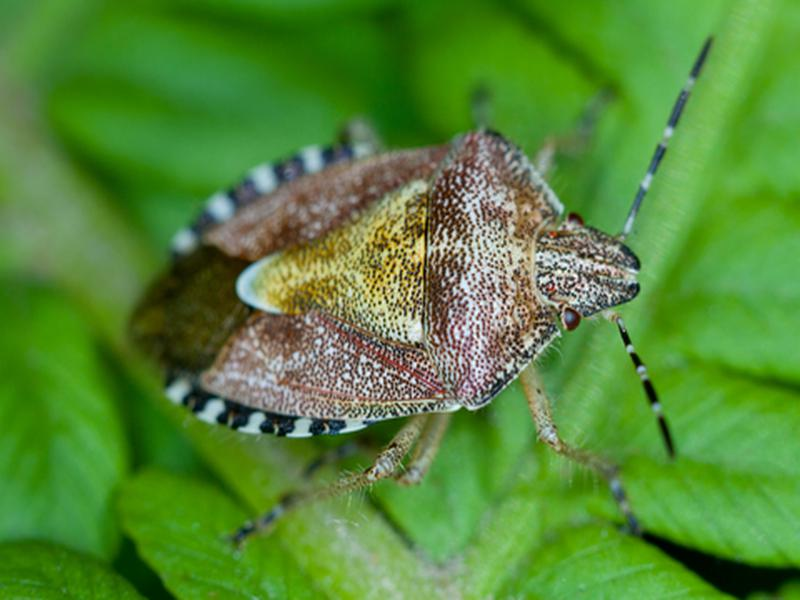Spiny_beetle: (114, 119, 648, 450)
